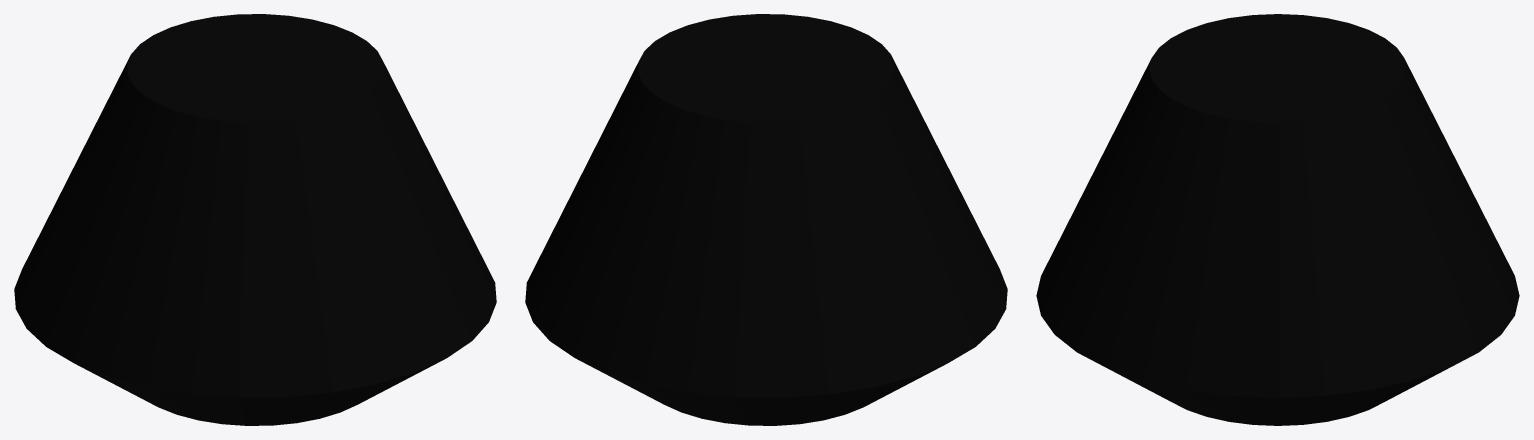
File: PlayerBody.obj
The picture shows the model from 3 angles, left to right: view 1: azimuth 30°, elevation 25°; view 2: azimuth 150°, elevation 25°; view 3: azimuth 270°, elevation 25°; orthographic projection.
Parts seen in each view (by area): view 1: Body; view 2: Body; view 3: Body.
Boxes of the visible parts, box(x1,y1,x2,y2) form: Body: box(14, 14, 496, 425); Body: box(525, 14, 1007, 425); Body: box(1036, 14, 1519, 425).
Bounding box in the file's own units: 3.76 × 2.6 × 3.76.
